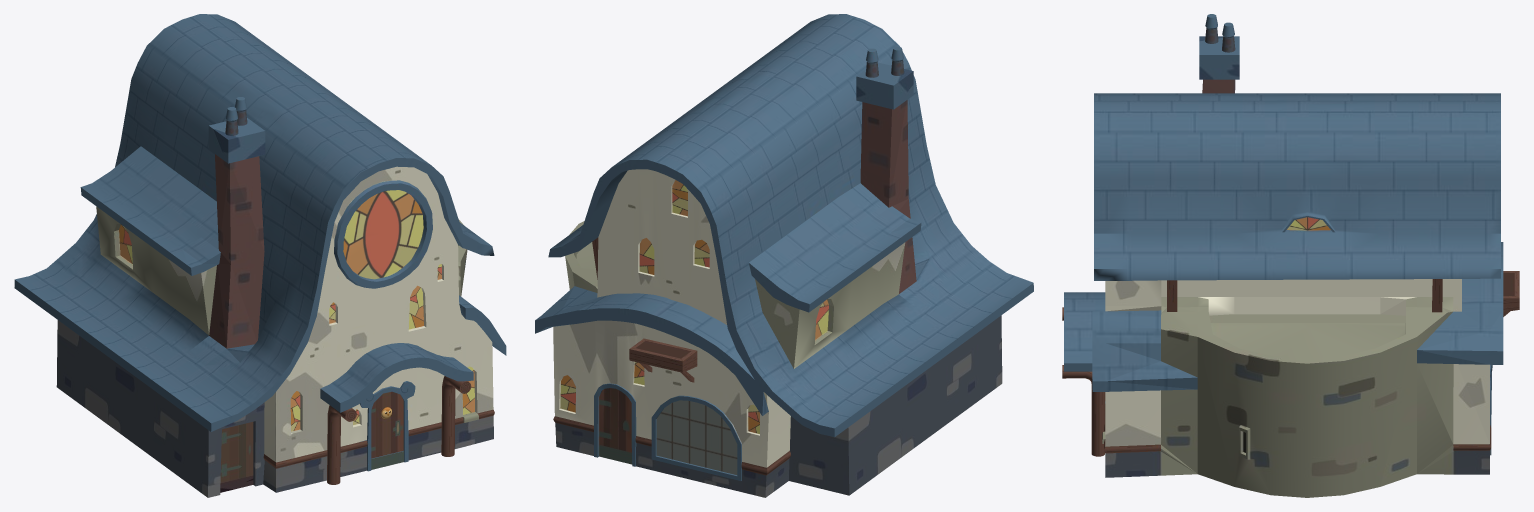
File: owl_house.obj
3 renders of one model, left to right at view 1: azimuth 30°, elevation 25°; view 2: azimuth 150°, elevation 25°; view 3: azimuth 270°, elevation 25°, orthographic. The views are drawn at different scales.
Visible parts, largest first — view 1: meshId2_name, meshId4_name, meshId3_name, meshId1_name, polySurface2; view 2: meshId2_name, meshId4_name, meshId3_name, meshId1_name, polySurface2; view 3: meshId2_name, meshId3_name, meshId4_name, meshId1_name.
Part boxes in pixels (bbox=[...]): meshId2_name: bbox=[14, 14, 506, 458]; meshId4_name: bbox=[96, 166, 493, 462]; meshId3_name: bbox=[56, 118, 493, 497]; meshId1_name: bbox=[220, 97, 494, 492]; polySurface2: bbox=[119, 190, 474, 431]; meshId2_name: bbox=[535, 14, 1033, 437]; meshId4_name: bbox=[553, 169, 905, 467]; meshId3_name: bbox=[555, 62, 1002, 497]; meshId1_name: bbox=[553, 46, 904, 480]; polySurface2: bbox=[560, 180, 828, 474]; meshId2_name: bbox=[1064, 93, 1503, 391]; meshId3_name: bbox=[1105, 36, 1489, 497]; meshId4_name: bbox=[1105, 279, 1489, 446]; meshId1_name: bbox=[1062, 14, 1519, 456].
Size of the model in its own units: 3.6 by 3.43 by 3.98.
